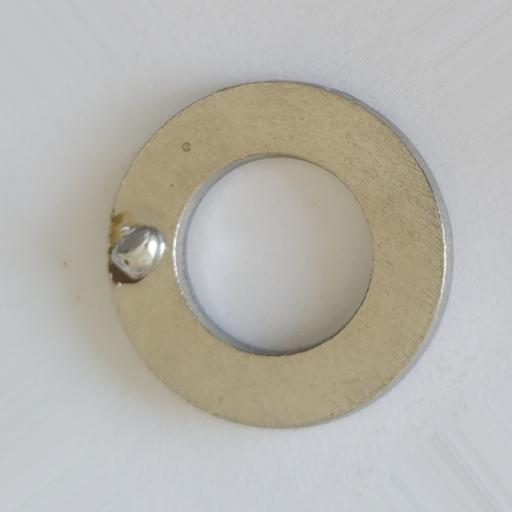circular_cavity: (182, 141, 192, 151)
excess_material: (107, 224, 168, 284)
